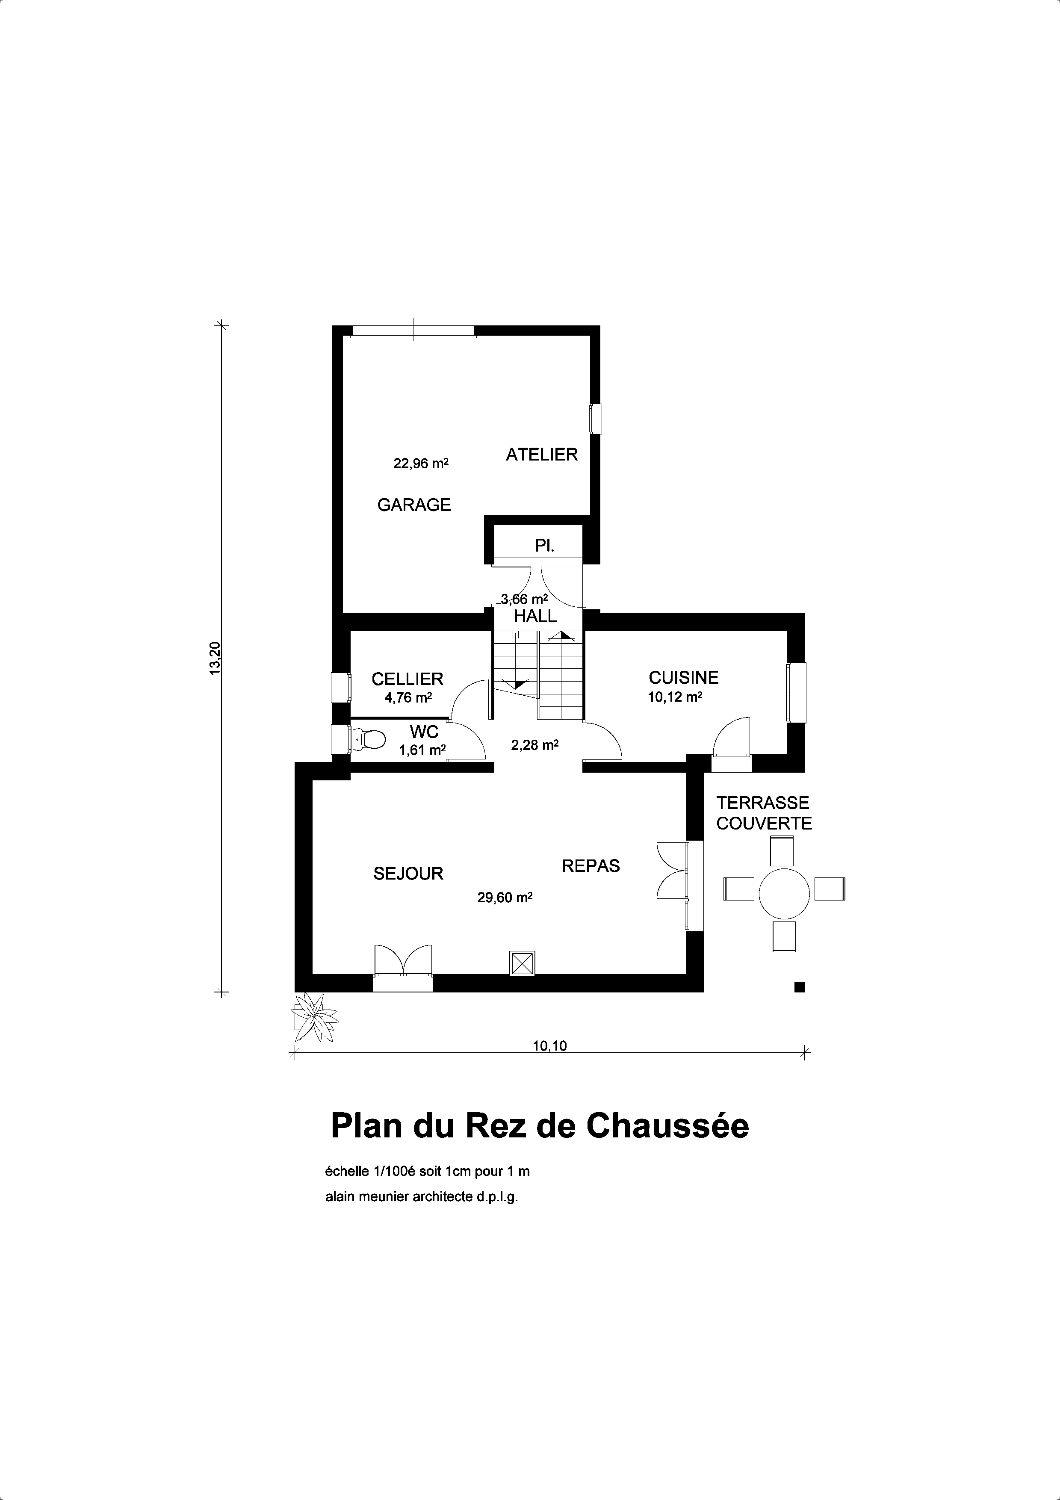door: (710, 717, 753, 773), (540, 564, 586, 609), (491, 564, 532, 607), (446, 719, 486, 763), (582, 720, 622, 763)
door-window: (656, 839, 704, 931)
toilet: (352, 728, 385, 751)
window: (372, 944, 434, 993), (785, 662, 806, 724), (330, 672, 352, 704), (330, 724, 352, 755), (589, 403, 603, 435)
